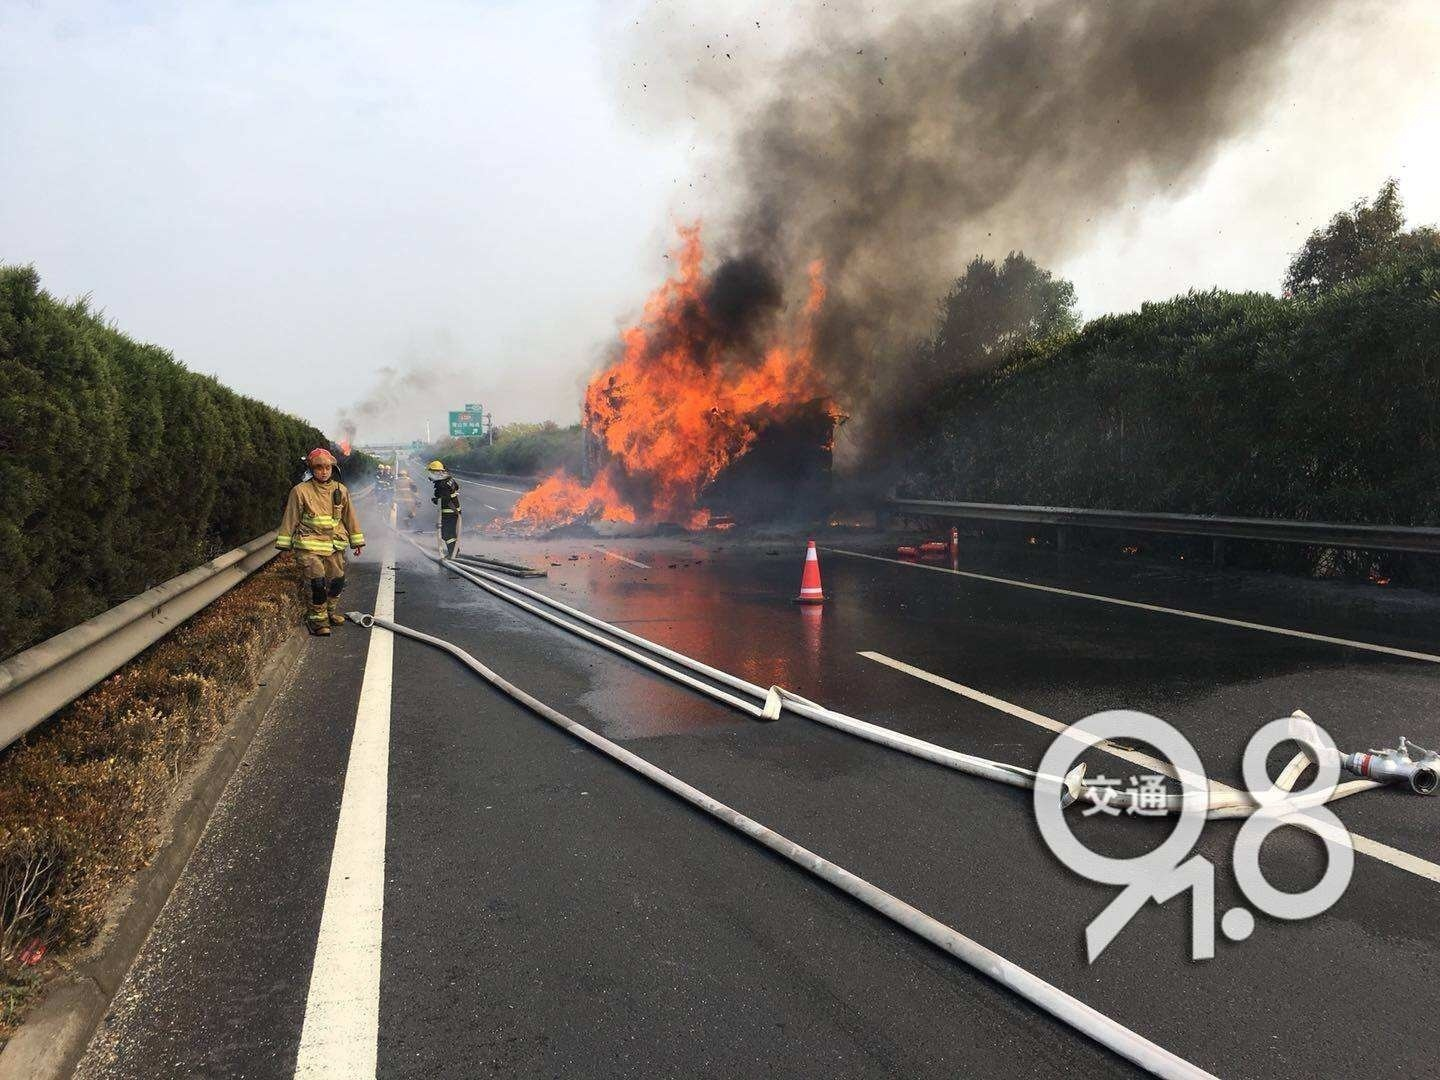fire: (508, 238, 855, 535)
